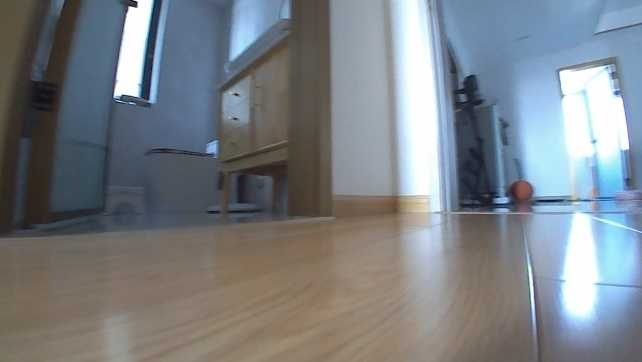door_anno: (30, 0, 138, 221)
door_sill: (1, 211, 338, 246), (447, 205, 640, 218)
toilet: (141, 136, 222, 215)
washstand: (214, 26, 293, 212)
